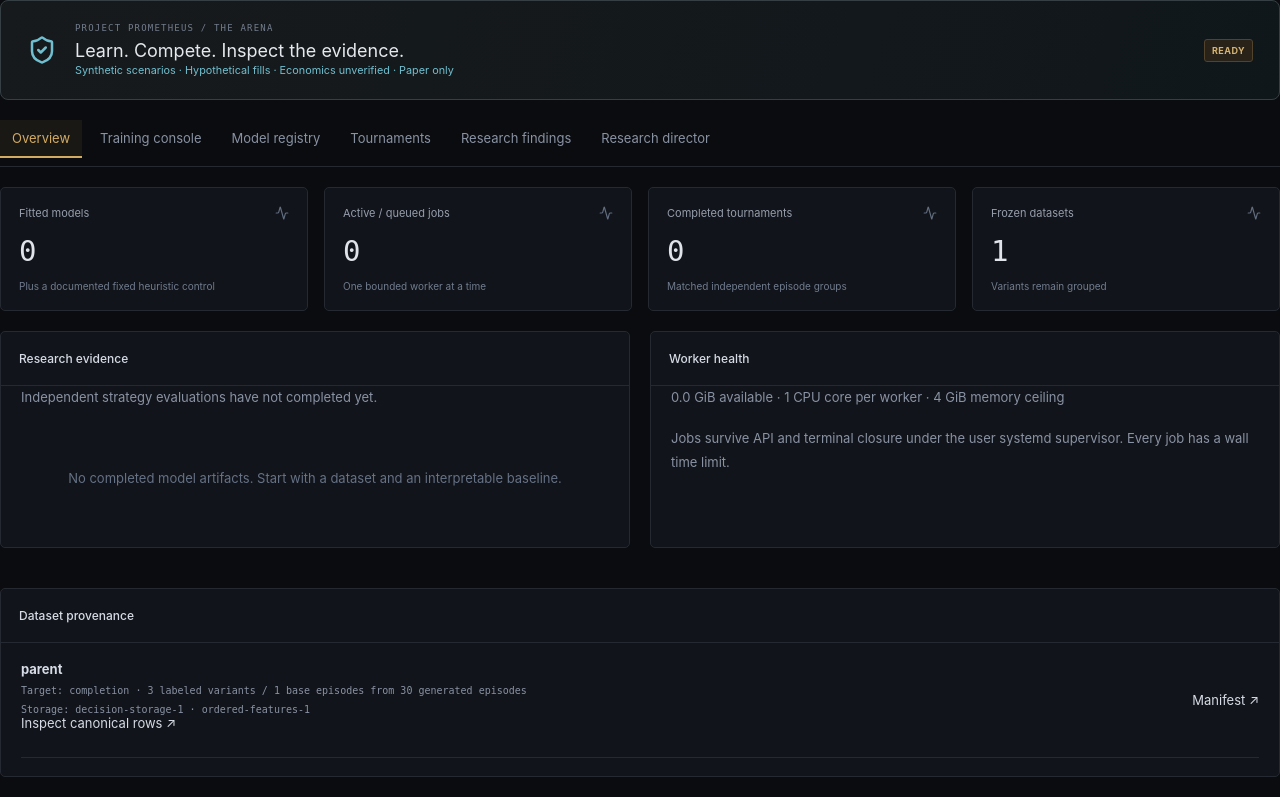
it: submits a fresh generator challenge without model promotion
This screenshot has width=1280, height=797.
Click the tab "Tournaments". click: (391, 139)
box: 338,120 -> 443,158
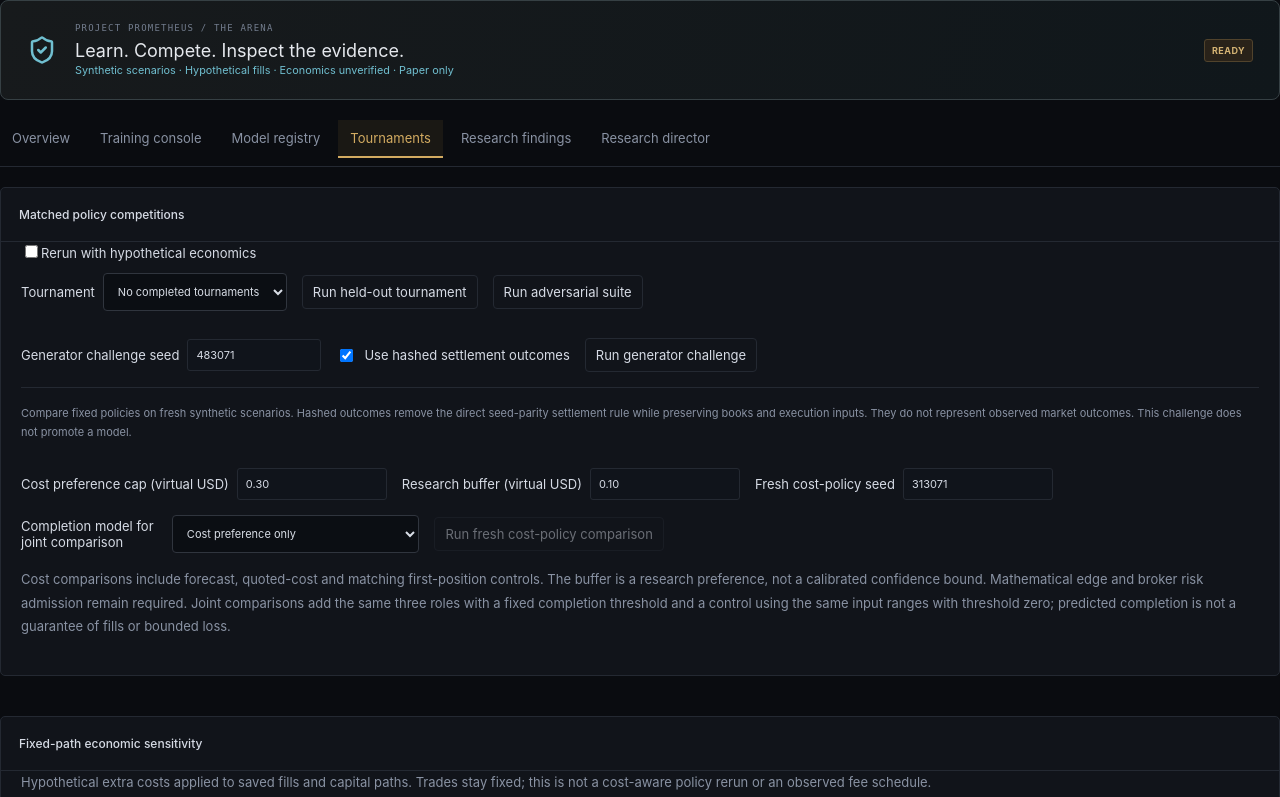
Replace the text in the number field labelled "Generator challenge seed" with "513071". click: (254, 355)
box: 187,339 -> 321,371
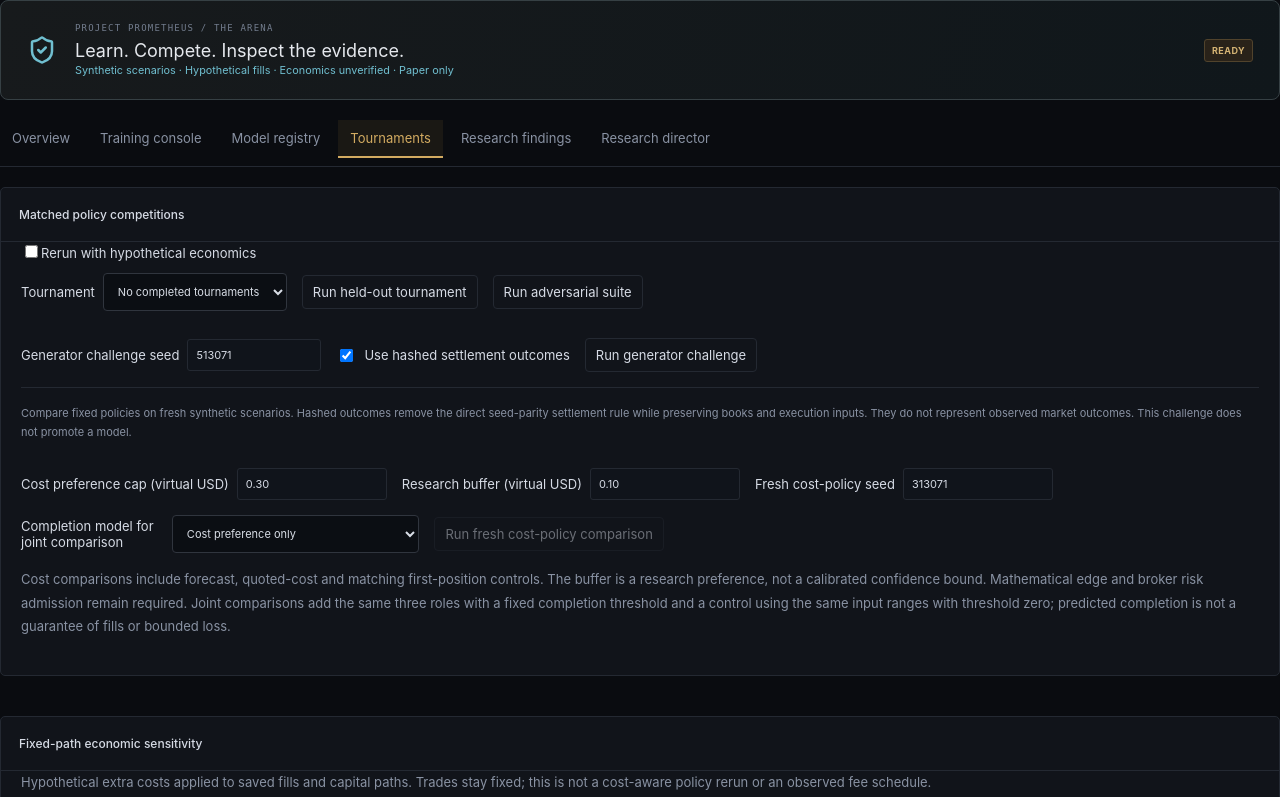
Click the button "Run generator challenge". click: (671, 355)
box: 585,338 -> 757,372
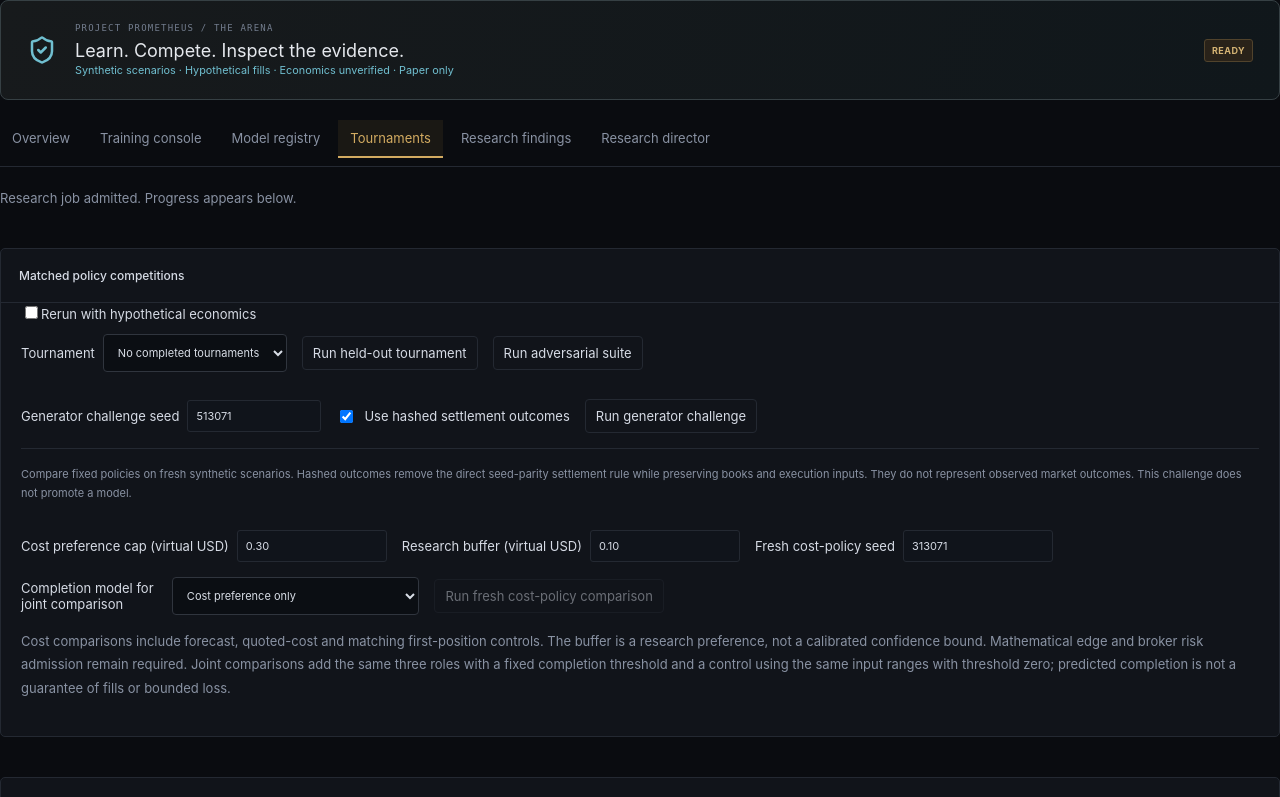
Check: the text "Research job admitted. Progress appears below." is shown, box 0,190 -> 296,206
